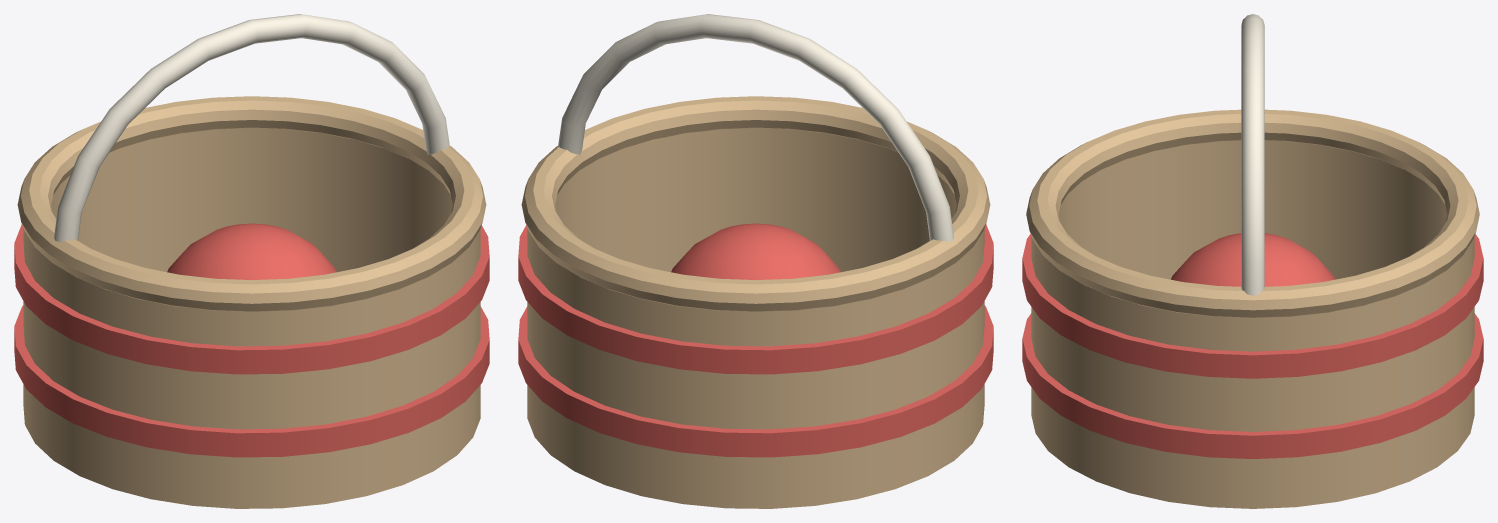
File: SM_IncToys.fbx
3 renders of one model, left to right at view 1: azimuth 30°, elevation 25°; view 2: azimuth 150°, elevation 25°; view 3: azimuth 270°, elevation 25°, orthographic. The views are drawn at different scales.
Visible parts, largest first — view 1: ToyBasket, ToyBall; view 2: ToyBasket, ToyBall; view 3: ToyBasket, ToyBall.
Part boxes in pixels (<box>): ToyBasket: <box>14,14,489,508</box>; ToyBall: <box>167,223,336,279</box>; ToyBasket: <box>518,14,993,508</box>; ToyBall: <box>671,223,840,279</box>; ToyBasket: <box>1022,14,1483,508</box>; ToyBall: <box>1171,233,1334,286</box>.
Bounding box in the file's own units: 0.624 × 0.566 × 0.624.
